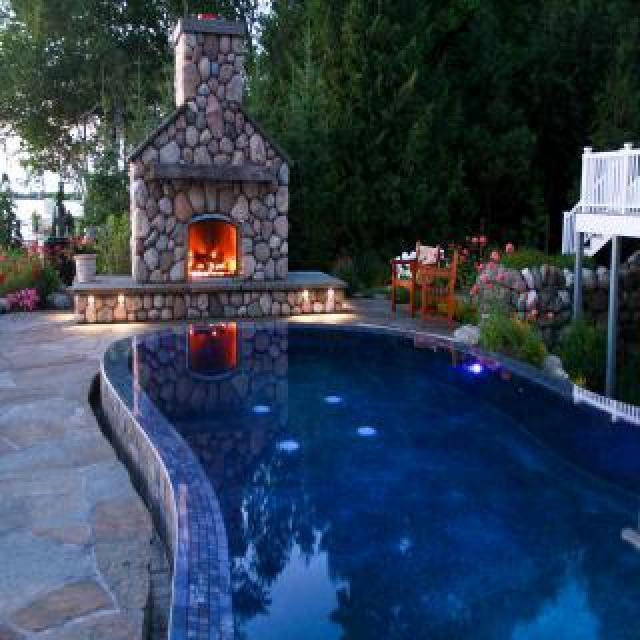Fire: (188, 224, 240, 280)
